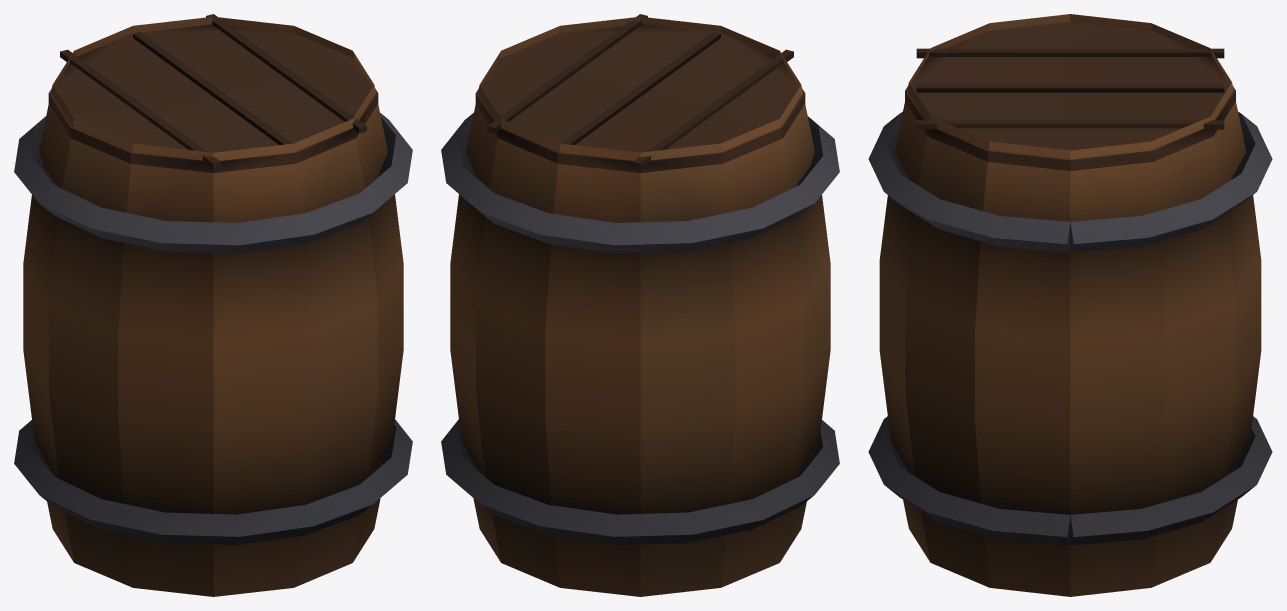
Rendered from HD_Barrel.glb.
3 views of the same model, side by side, from view 1: azimuth 30°, elevation 25°; view 2: azimuth 150°, elevation 25°; view 3: azimuth 270°, elevation 25° (orthographic).
Visible parts, largest first — view 1: HD_Barrel_1_Wood, HD_Barrel_2_Metal; view 2: HD_Barrel_1_Wood, HD_Barrel_2_Metal; view 3: HD_Barrel_1_Wood, HD_Barrel_2_Metal.
Boxes of the visible parts, <box> form: HD_Barrel_1_Wood: <box>23,14,403,596</box>; HD_Barrel_2_Metal: <box>14,113,412,544</box>; HD_Barrel_1_Wood: <box>450,14,830,596</box>; HD_Barrel_2_Metal: <box>441,113,839,544</box>; HD_Barrel_1_Wood: <box>879,14,1261,596</box>; HD_Barrel_2_Metal: <box>868,111,1272,545</box>.
Bounding box in the file's own units: 2.62 × 3.2 × 2.63.
